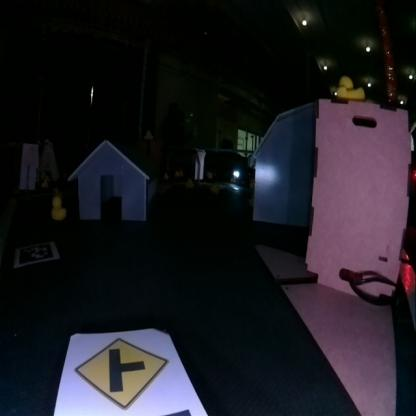Duckie: (336, 75, 362, 99), (51, 196, 66, 218)
Intersection sign: (75, 336, 168, 408)
QR code: (12, 240, 60, 269)
